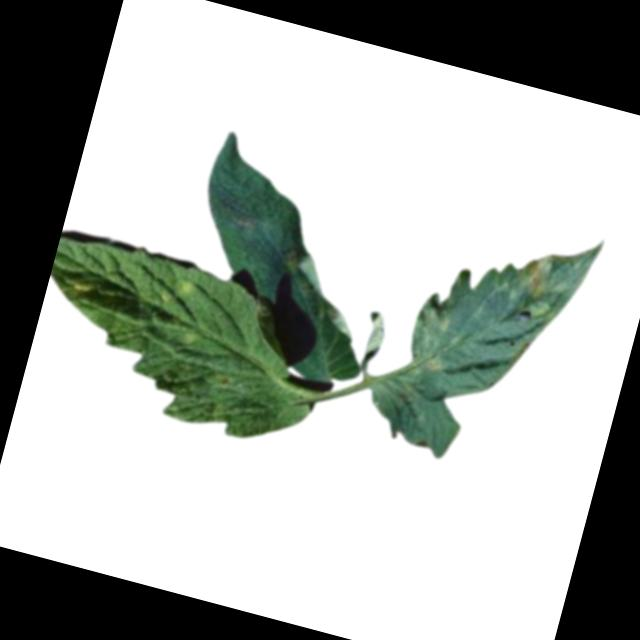Leaf_Mold: (272, 248, 369, 337), (401, 293, 464, 377), (514, 247, 570, 320), (154, 270, 200, 312), (68, 271, 102, 305)
